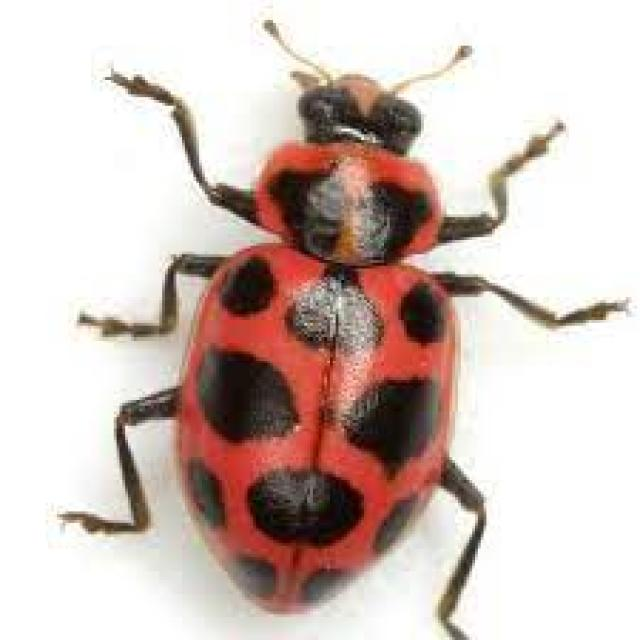bug: (72, 0, 636, 640)
